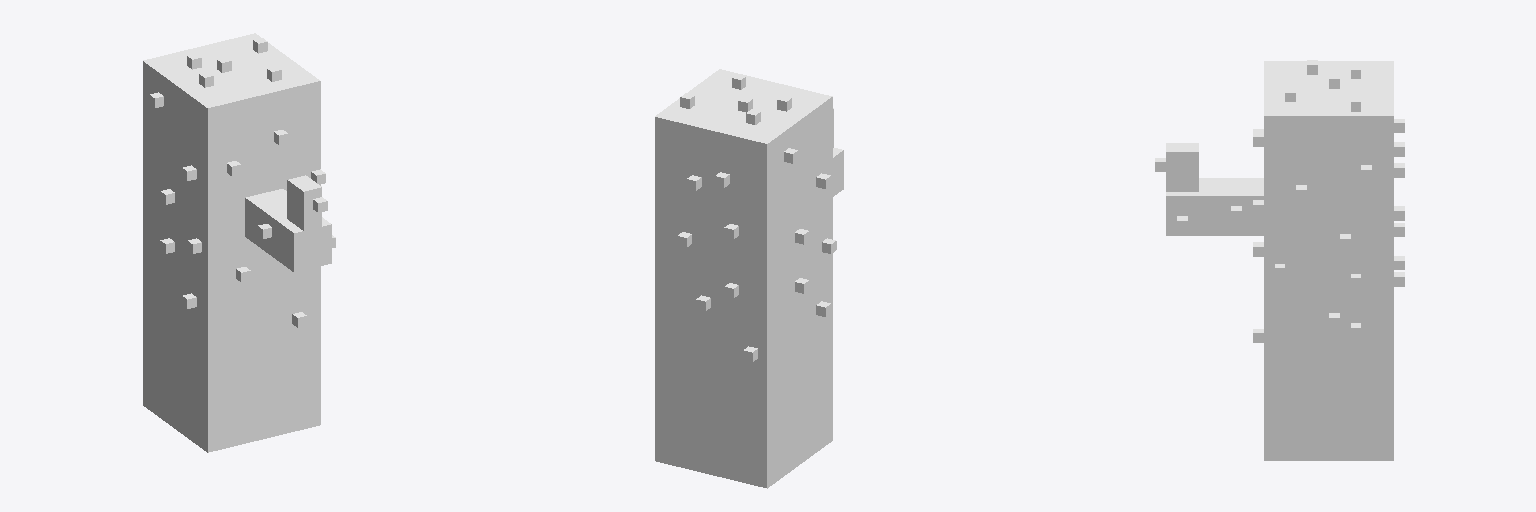
Rendered from Catus.obj.
3 views of the same model, side by side, from view 1: azimuth 30°, elevation 25°; view 2: azimuth 150°, elevation 25°; view 3: azimuth 270°, elevation 25° (orthographic).
Visible parts, largest first — view 1: object 1; view 2: object 1; view 3: object 1.
Part boxes in pixels (left/top/right/bottom): object 1: left=143, top=33, right=335, bottom=452; object 1: left=655, top=69, right=843, bottom=488; object 1: left=1155, top=60, right=1404, bottom=460.
Bounding box in the file's own units: 1.4 × 3.6 × 2.3.